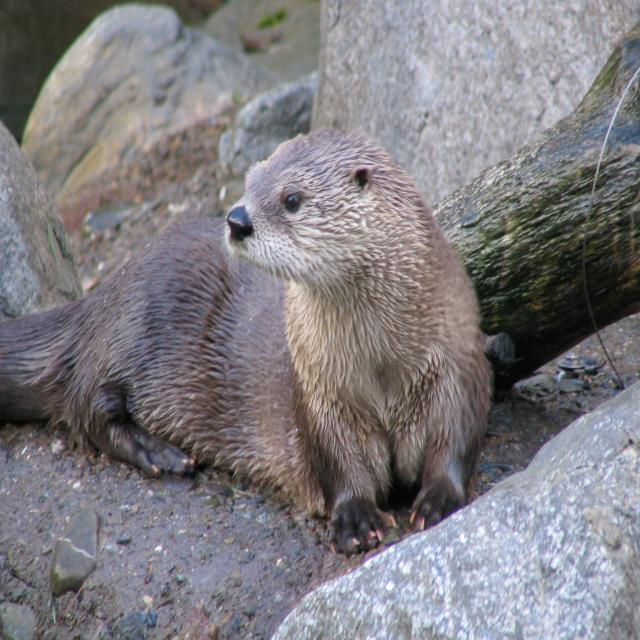otter: (1, 132, 493, 551)
